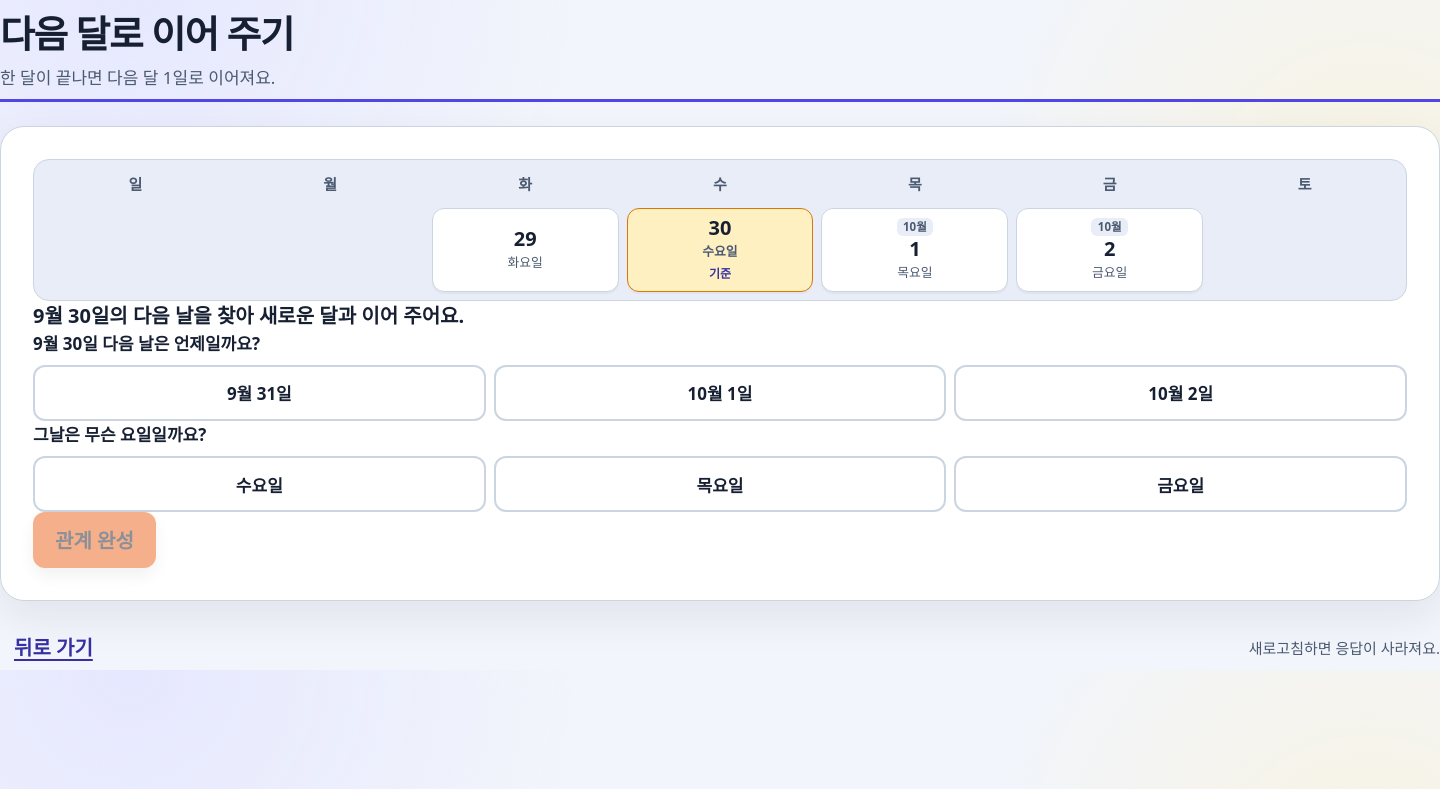
Scenario: 월 경계 단계 (calendar-month-06) › 10월 1일 목요일로 월 경계를 수리한다
Click the button "10월 1일": (720, 393) [494,365,946,421]
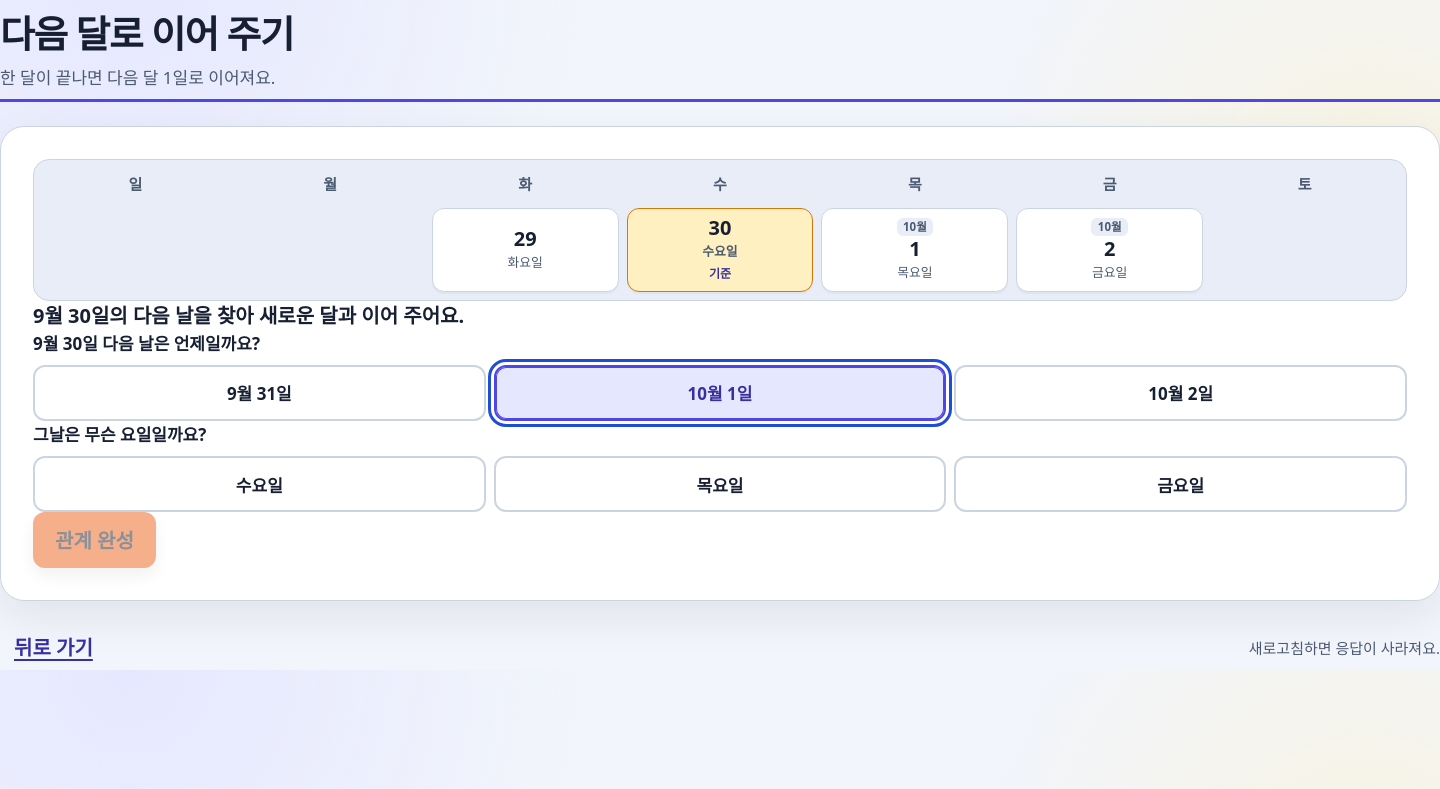
Click the button "목요일": (720, 484) [494,456,946,512]
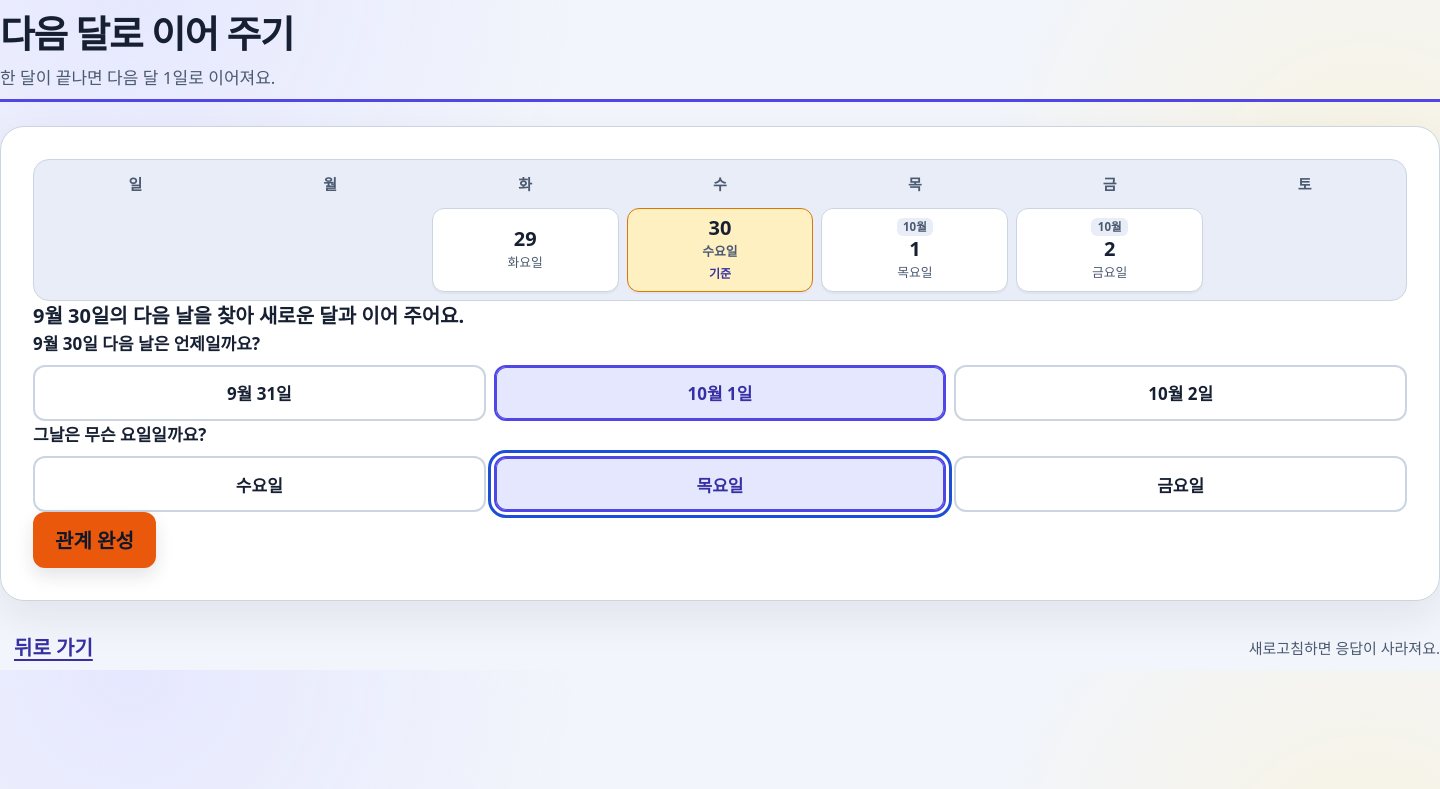
Click the button "관계 완성": (94, 540) [33,512,156,568]
(page scrolled)
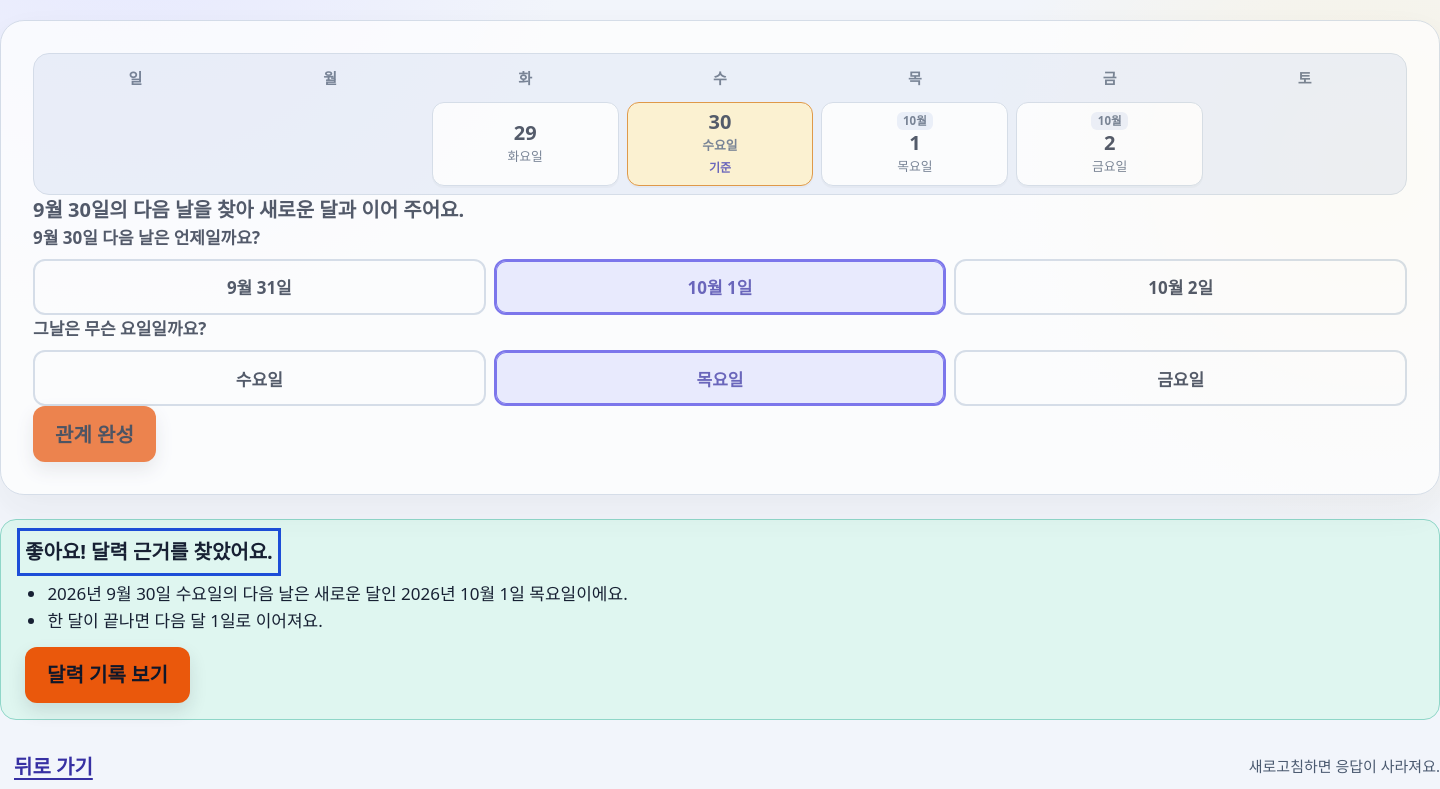
Expected: the heading "좋아요! 달력 근거를 찾았어요." is shown, [25,536,273,568]
Expected: the message shows "10월 1일", [47,582,628,605]
